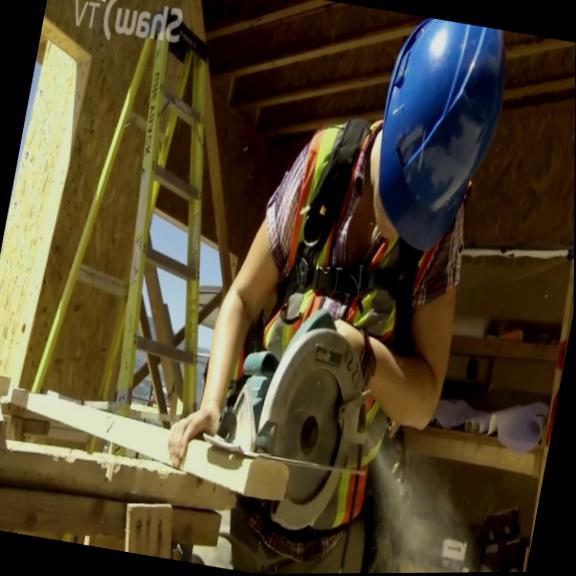safety_vest: (225, 107, 461, 542), (224, 340, 248, 404)
